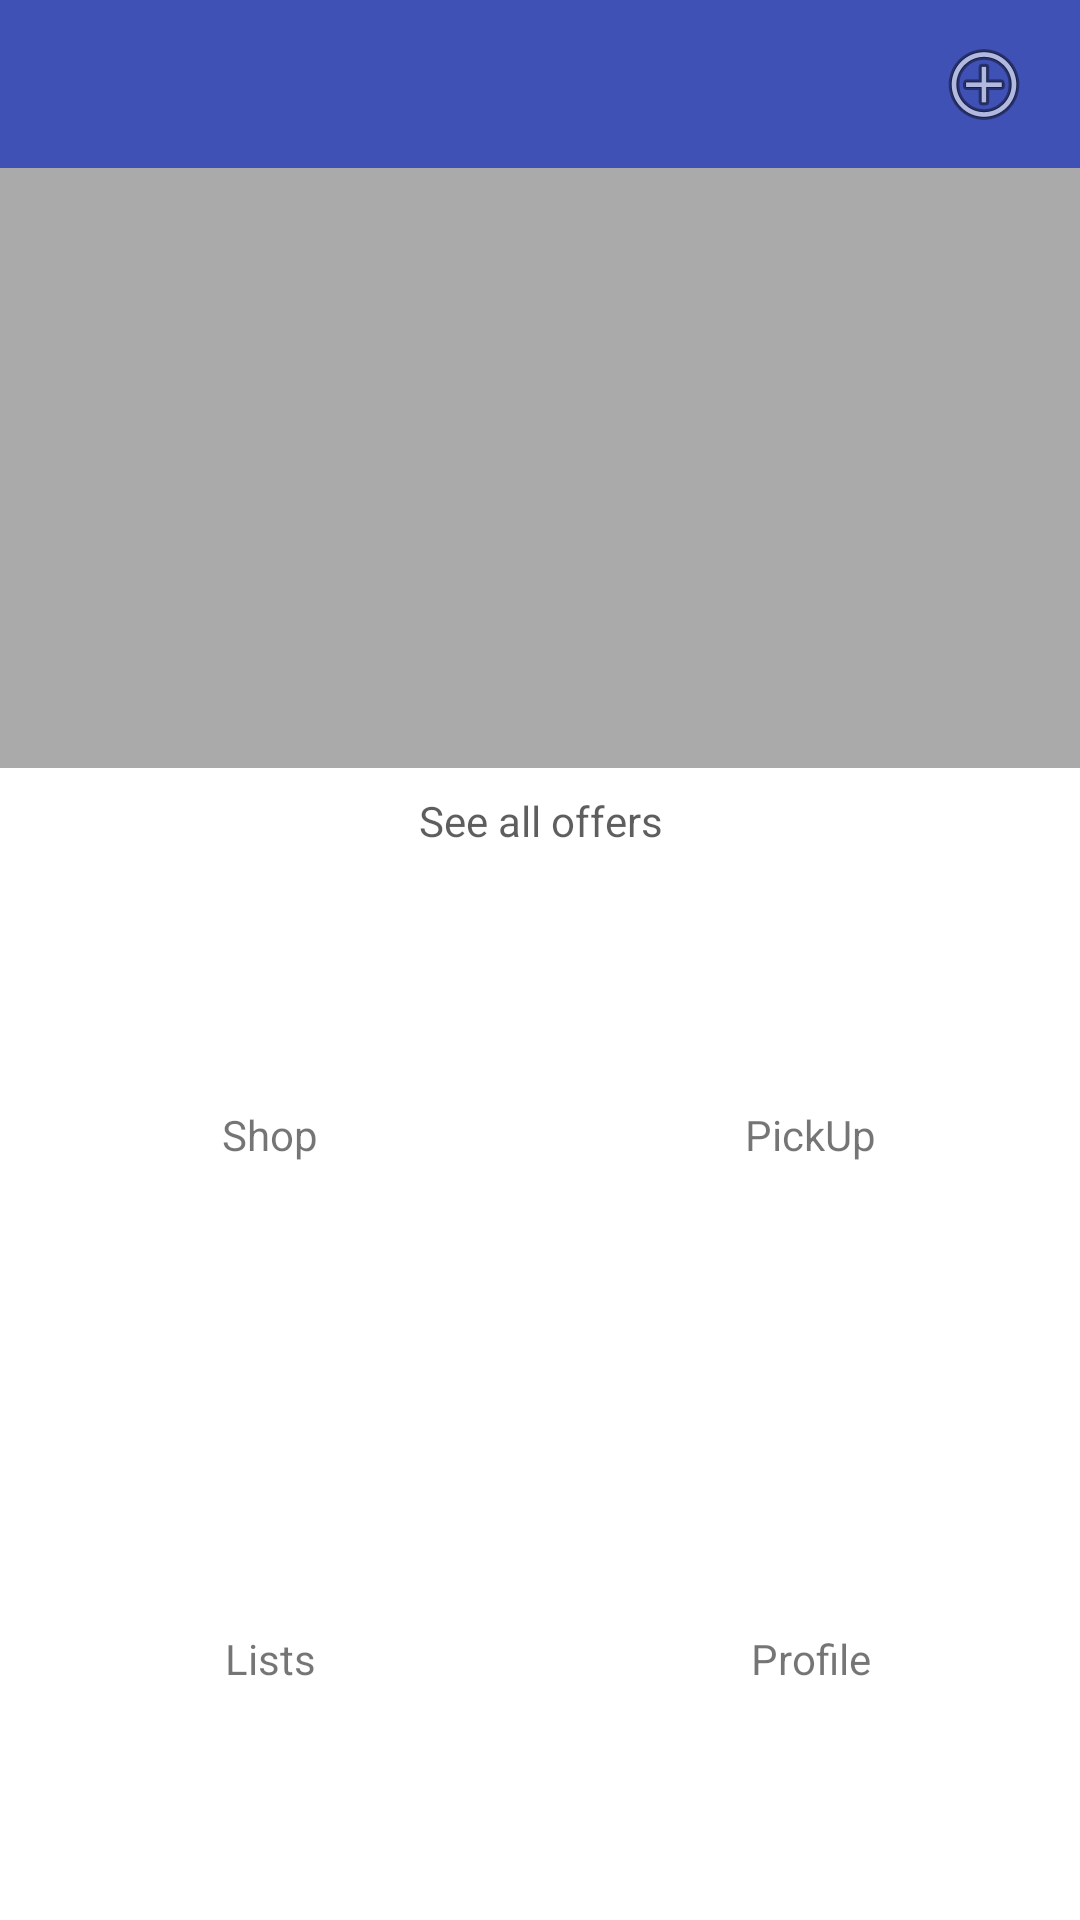

Named icons in this screenshot (1080×1920) and their bounding boxes, (x1, y1, x2, y2):
add: (948, 49, 1020, 120)
